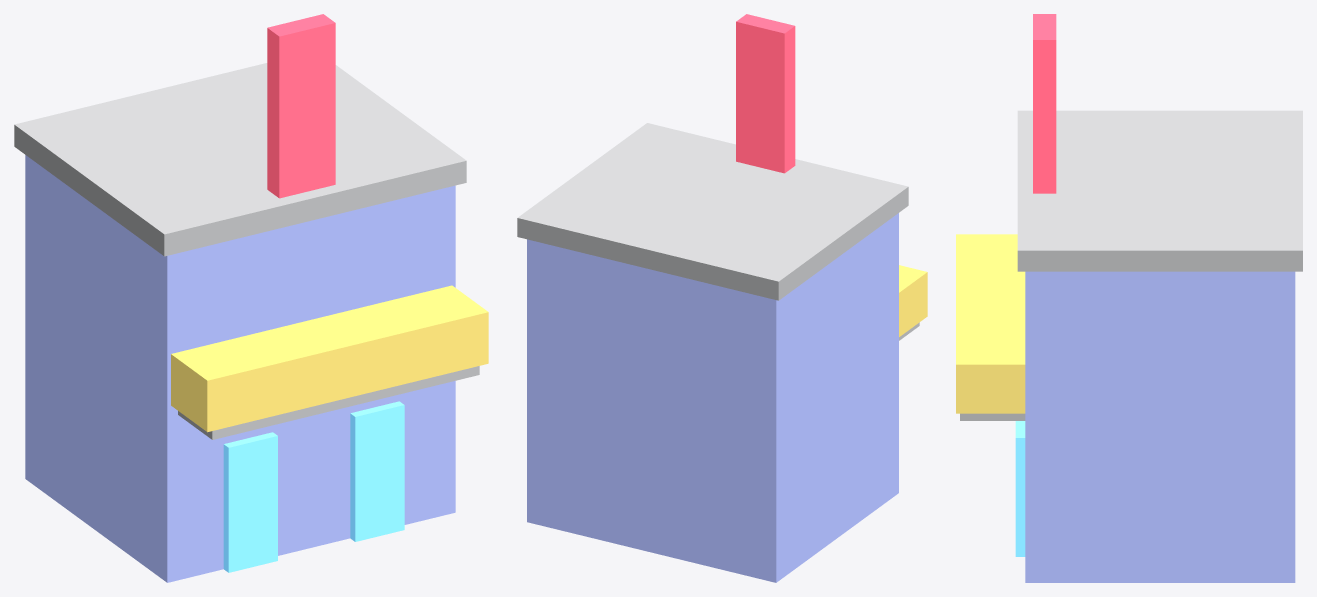
File: cinema.glb
The picture shows the model from 3 angles, left to right: view 1: azimuth 30°, elevation 25°; view 2: azimuth 150°, elevation 25°; view 3: azimuth 270°, elevation 25°; orthographic projection. The views are drawn at different scales.
Parts seen in each view (by area): view 1: cinema; view 2: cinema; view 3: cinema.
Boxes of the visible parts, box(x1,y1,x2,y2) form: cinema: box(14, 14, 488, 582); cinema: box(517, 14, 927, 582); cinema: box(956, 14, 1302, 582).
Bounding box in the file's own units: 0.86 × 1.4 × 0.9.
